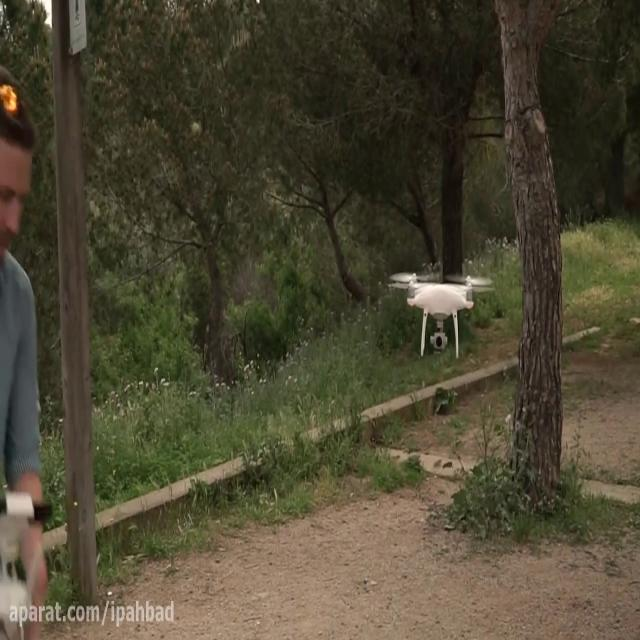drone: (382, 268, 498, 360)
